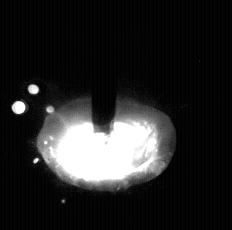arame: (93, 0, 118, 135)
poca: (35, 0, 177, 230)
